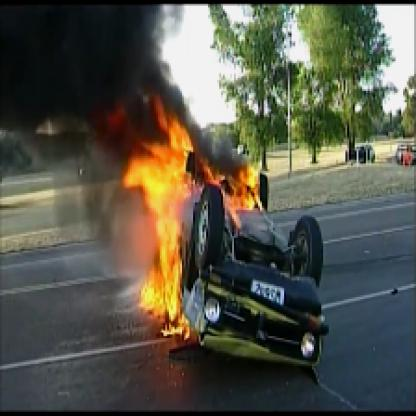Fire: (98, 89, 292, 346)
